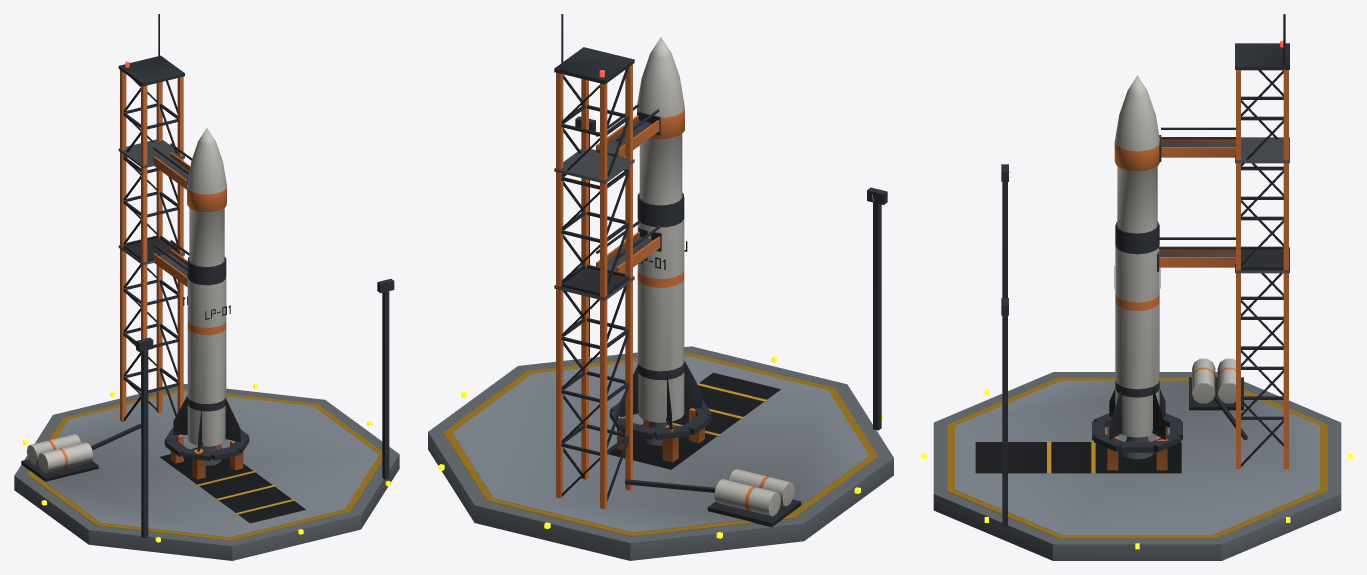
The model's file is launch_pad.glb.
3 views of the same model, side by side, from view 1: azimuth 30°, elevation 25°; view 2: azimuth 150°, elevation 25°; view 3: azimuth 270°, elevation 25° (orthographic). The views are drawn at different scales.
Visible parts, largest first — view 1: Body, Rocket, Arm_Upper, Arm_Lower; view 2: Body, Rocket, Arm_Lower, Arm_Upper; view 3: Body, Rocket, Arm_Lower, Arm_Upper.
Part boxes in pixels (<box>): Body: <box>14,14,399,560</box>; Rocket: <box>173,128,240,465</box>; Arm_Upper: <box>153,143,191,189</box>; Arm_Lower: <box>153,240,189,286</box>; Body: <box>428,14,893,560</box>; Rocket: <box>620,37,701,445</box>; Arm_Lower: <box>596,220,661,273</box>; Arm_Upper: <box>596,104,660,157</box>; Body: <box>922,14,1352,560</box>; Rocket: <box>1109,75,1165,459</box>; Arm_Lower: <box>1157,237,1235,271</box>; Arm_Upper: <box>1159,127,1235,161</box>.
Bounding box in the file's own units: 11.72 × 14.1 × 11.72.
